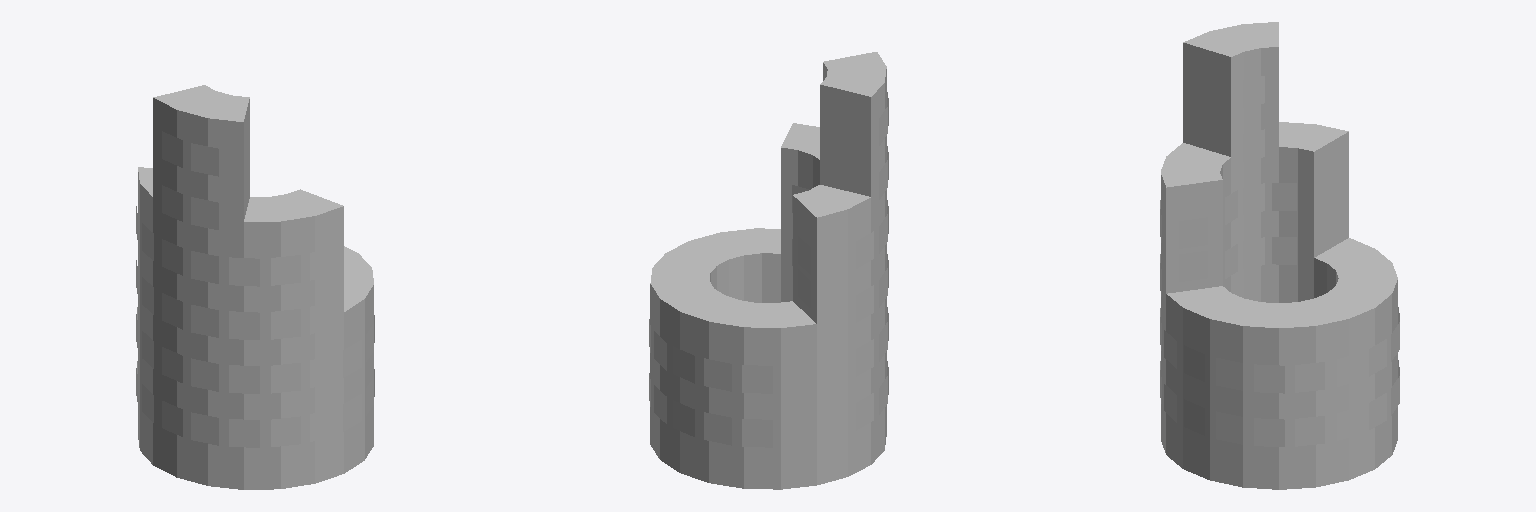
File: BuildingV4.obj
3 renders of one model, left to right at view 1: azimuth 30°, elevation 25°; view 2: azimuth 150°, elevation 25°; view 3: azimuth 270°, elevation 25°, orthographic.
Visible parts, largest first — view 1: polySurface70; view 2: polySurface70; view 3: polySurface70.
Part boxes in pixels (bbox=[...]): polySurface70: bbox=[136, 85, 374, 489]; polySurface70: bbox=[649, 52, 888, 489]; polySurface70: bbox=[1160, 22, 1399, 489].
Bounding box in the file's own units: 4.03 × 6.83 × 4.05.